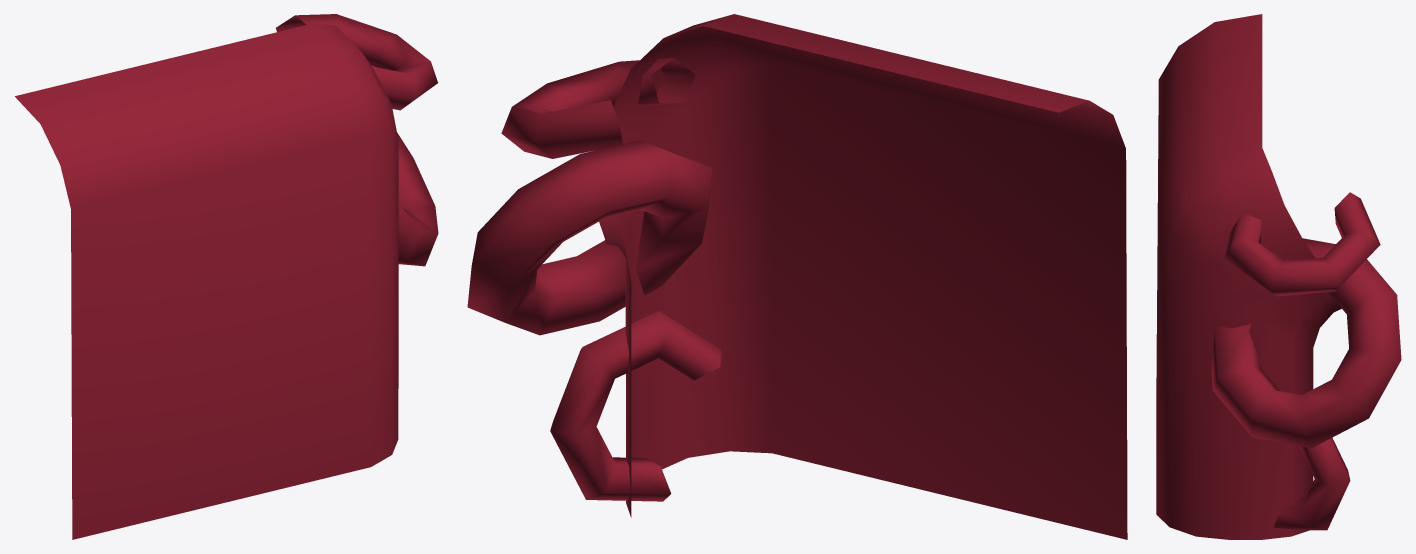
The model's file is Surface_CornerWall.fbx.
3 renders of one model, left to right at view 1: azimuth 30°, elevation 25°; view 2: azimuth 150°, elevation 25°; view 3: azimuth 270°, elevation 25°, orthographic. The views are drawn at different scales.
Parts seen in each view (by area): view 1: Surface_CornerWall; view 2: Surface_CornerWall; view 3: Surface_CornerWall.
Boxes of the visible parts, bbox=[...] form: Surface_CornerWall: bbox=[15, 14, 438, 539]; Surface_CornerWall: bbox=[467, 14, 1127, 539]; Surface_CornerWall: bbox=[1156, 14, 1401, 539].
Bounding box in the file's own units: 2670 × 2316 × 1391.
